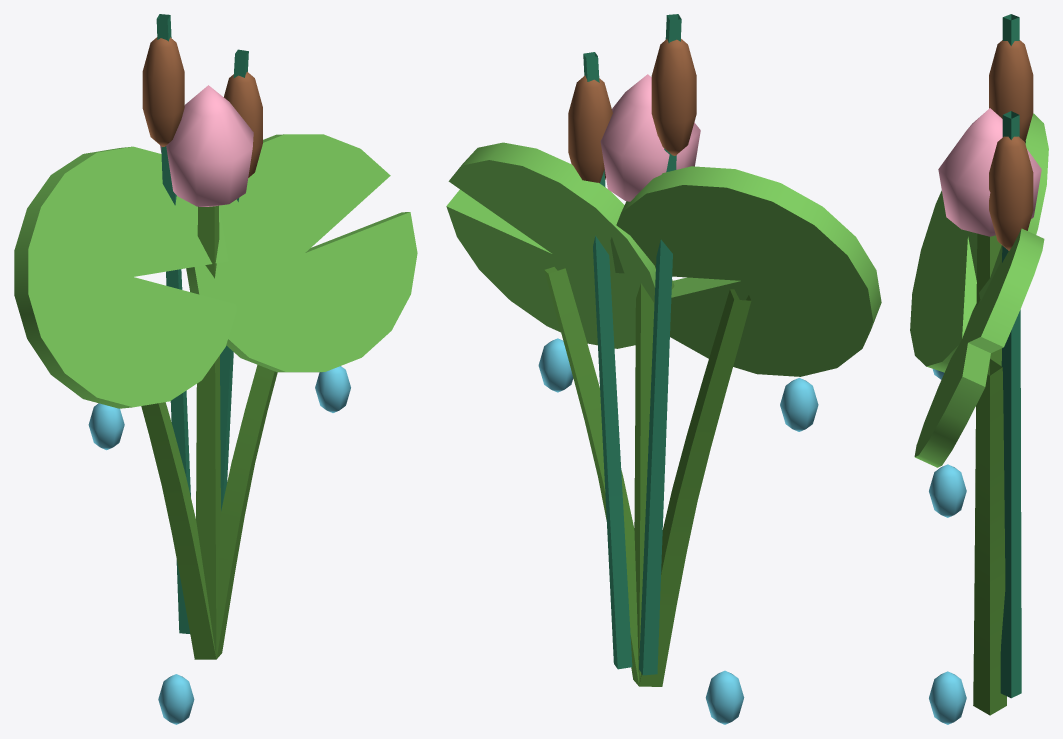
The model's file is item_water_plants.glb.
3 renders of one model, left to right at view 1: azimuth 30°, elevation 25°; view 2: azimuth 150°, elevation 25°; view 3: azimuth 270°, elevation 25°, orthographic. The views are drawn at different scales.
Parts seen in each view (by area): view 1: item_water_plants; view 2: item_water_plants; view 3: item_water_plants.
Part boxes in pixels (left/top/right/bottom): item_water_plants: left=14, top=14, right=417, bottom=724; item_water_plants: left=446, top=14, right=881, bottom=724; item_water_plants: left=910, top=14, right=1048, bottom=724.
Size of the model in its own units: 0.2248 by 0.3742 by 0.0657.
